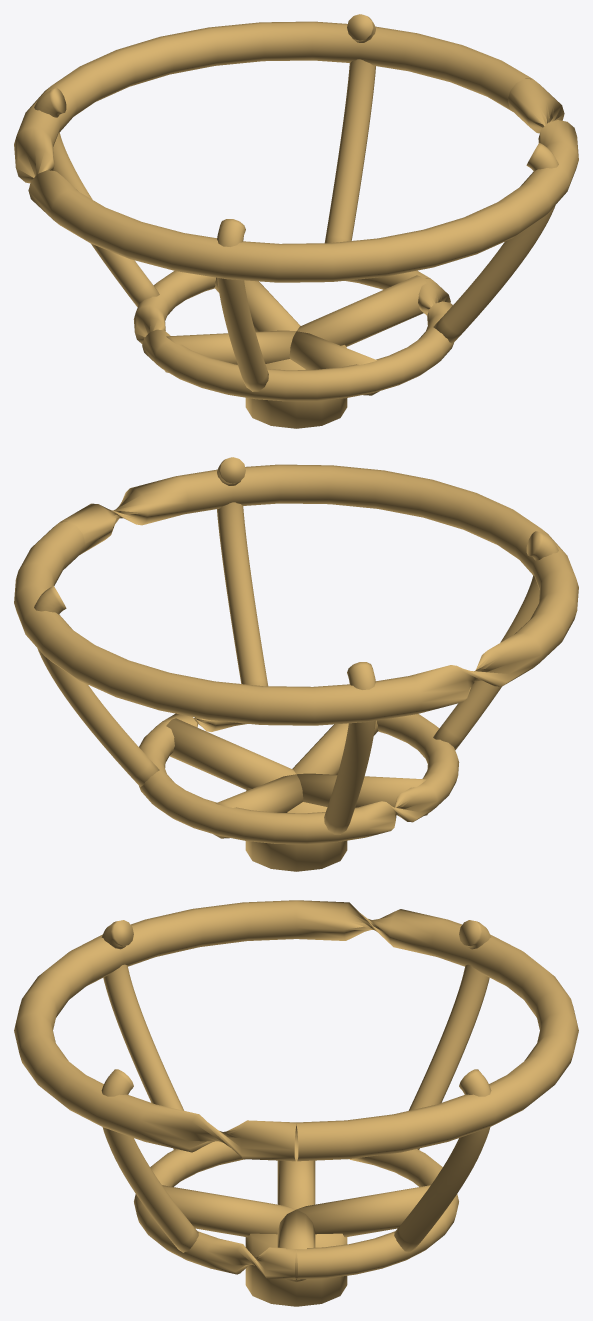
The model's file is demo-round-1-bezel.glb.
The picture shows the model from 3 angles, top to bottom: view 1: azimuth 30°, elevation 25°; view 2: azimuth 150°, elevation 25°; view 3: azimuth 270°, elevation 25°; orthographic projection.
Visible parts, largest first — view 1: Metal.028, Metal.027, Metal.029, Metal.032, Metal.023, Metal.031, Metal.030, Metal.022, Metal.024, Metal.026, Metal.025; view 2: Metal.028, Metal.027, Metal.032, Metal.029, Metal.023, Metal.030, Metal.031, Metal.022, Metal.024, Metal.025, Metal.026; view 3: Metal.028, Metal.027, Metal.030, Metal.031, Metal.032, Metal.029, Metal.025, Metal.026, Metal.022, Metal.024, Metal.023.
Part boxes in pixels (bbox=[...]): Metal.028: bbox=[14, 21, 578, 282]; Metal.027: bbox=[133, 270, 453, 401]; Metal.029: bbox=[324, 14, 375, 243]; Metal.032: bbox=[433, 143, 558, 343]; Metal.023: bbox=[297, 275, 426, 346]; Metal.031: bbox=[217, 219, 268, 391]; Metal.030: bbox=[34, 88, 159, 307]; Metal.022: bbox=[245, 345, 347, 428]; Metal.024: bbox=[164, 330, 295, 372]; Metal.026: bbox=[289, 331, 379, 395]; Metal.025: bbox=[214, 277, 300, 331]; Metal.028: bbox=[14, 464, 578, 725]; Metal.027: bbox=[139, 713, 459, 844]; Metal.032: bbox=[217, 457, 268, 686]; Metal.029: bbox=[34, 586, 159, 786]; Metal.023: bbox=[166, 718, 295, 789]; Metal.030: bbox=[324, 662, 375, 834]; Metal.031: bbox=[433, 531, 558, 750]; Metal.022: bbox=[245, 788, 347, 871]; Metal.024: bbox=[297, 773, 428, 815]; Metal.025: bbox=[213, 774, 303, 838]; Metal.026: bbox=[292, 720, 378, 774]; Metal.028: bbox=[14, 900, 578, 1161]; Metal.027: bbox=[134, 1141, 458, 1279]; Metal.030: bbox=[408, 920, 491, 1149]; Metal.031: bbox=[101, 920, 184, 1149]; Metal.032: bbox=[101, 1069, 198, 1252]; Metal.029: bbox=[394, 1069, 491, 1252]; Metal.025: bbox=[297, 1185, 430, 1237]; Metal.026: bbox=[162, 1185, 295, 1237]; Metal.022: bbox=[245, 1233, 347, 1306]; Metal.024: bbox=[277, 1160, 315, 1209]; Metal.023: bbox=[277, 1209, 315, 1281].
Size of the model in its own units: 7.24 by 4.1 by 7.24.
